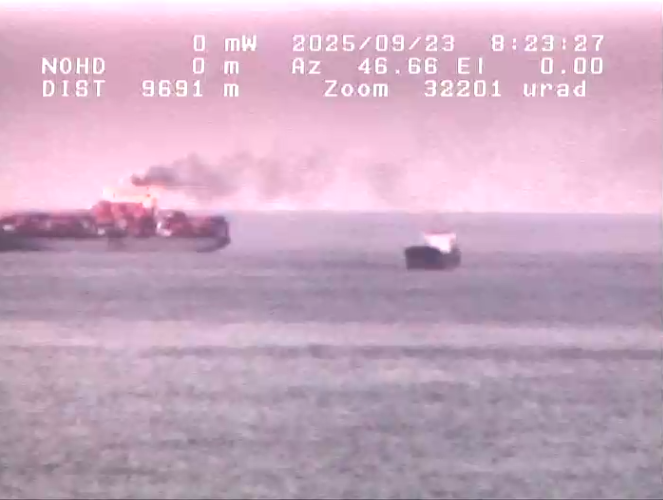TANKER: (1, 160, 252, 270), (388, 219, 477, 283)
